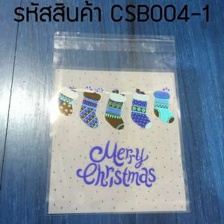snack: (36, 25, 197, 220)
